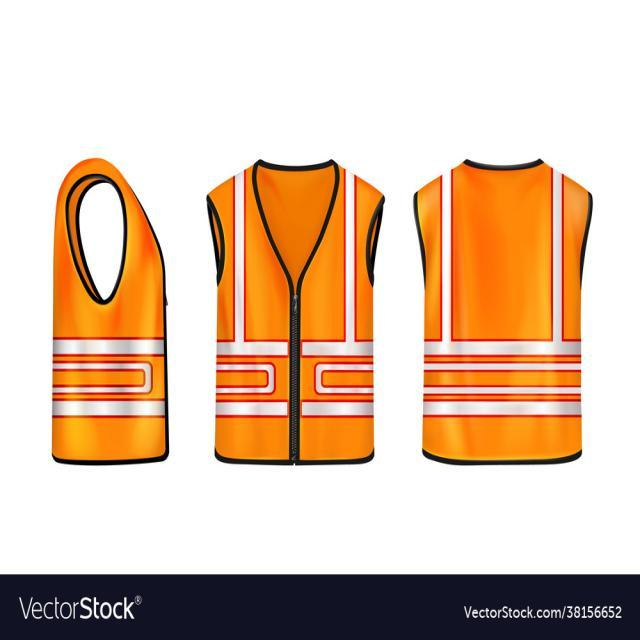jacket: (217, 164, 387, 467), (422, 159, 588, 467), (27, 164, 176, 476)
